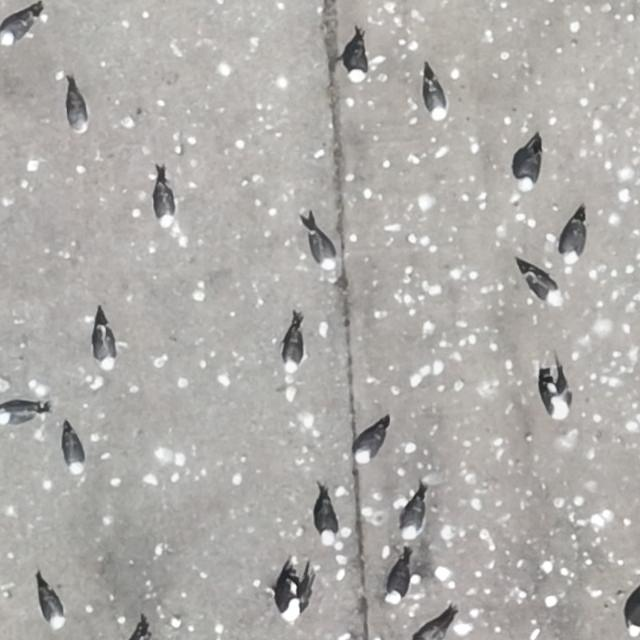umineko: (535, 373, 580, 422), (280, 568, 308, 622), (1, 14, 32, 44), (357, 428, 383, 462), (529, 272, 558, 300), (403, 500, 424, 538), (563, 222, 585, 258), (316, 502, 336, 540), (64, 434, 83, 473), (518, 151, 538, 187), (44, 594, 65, 628), (428, 83, 447, 119), (156, 188, 174, 226), (314, 234, 334, 267), (285, 332, 303, 368), (389, 567, 408, 601), (96, 332, 114, 367), (348, 46, 366, 79), (1, 406, 38, 422)
